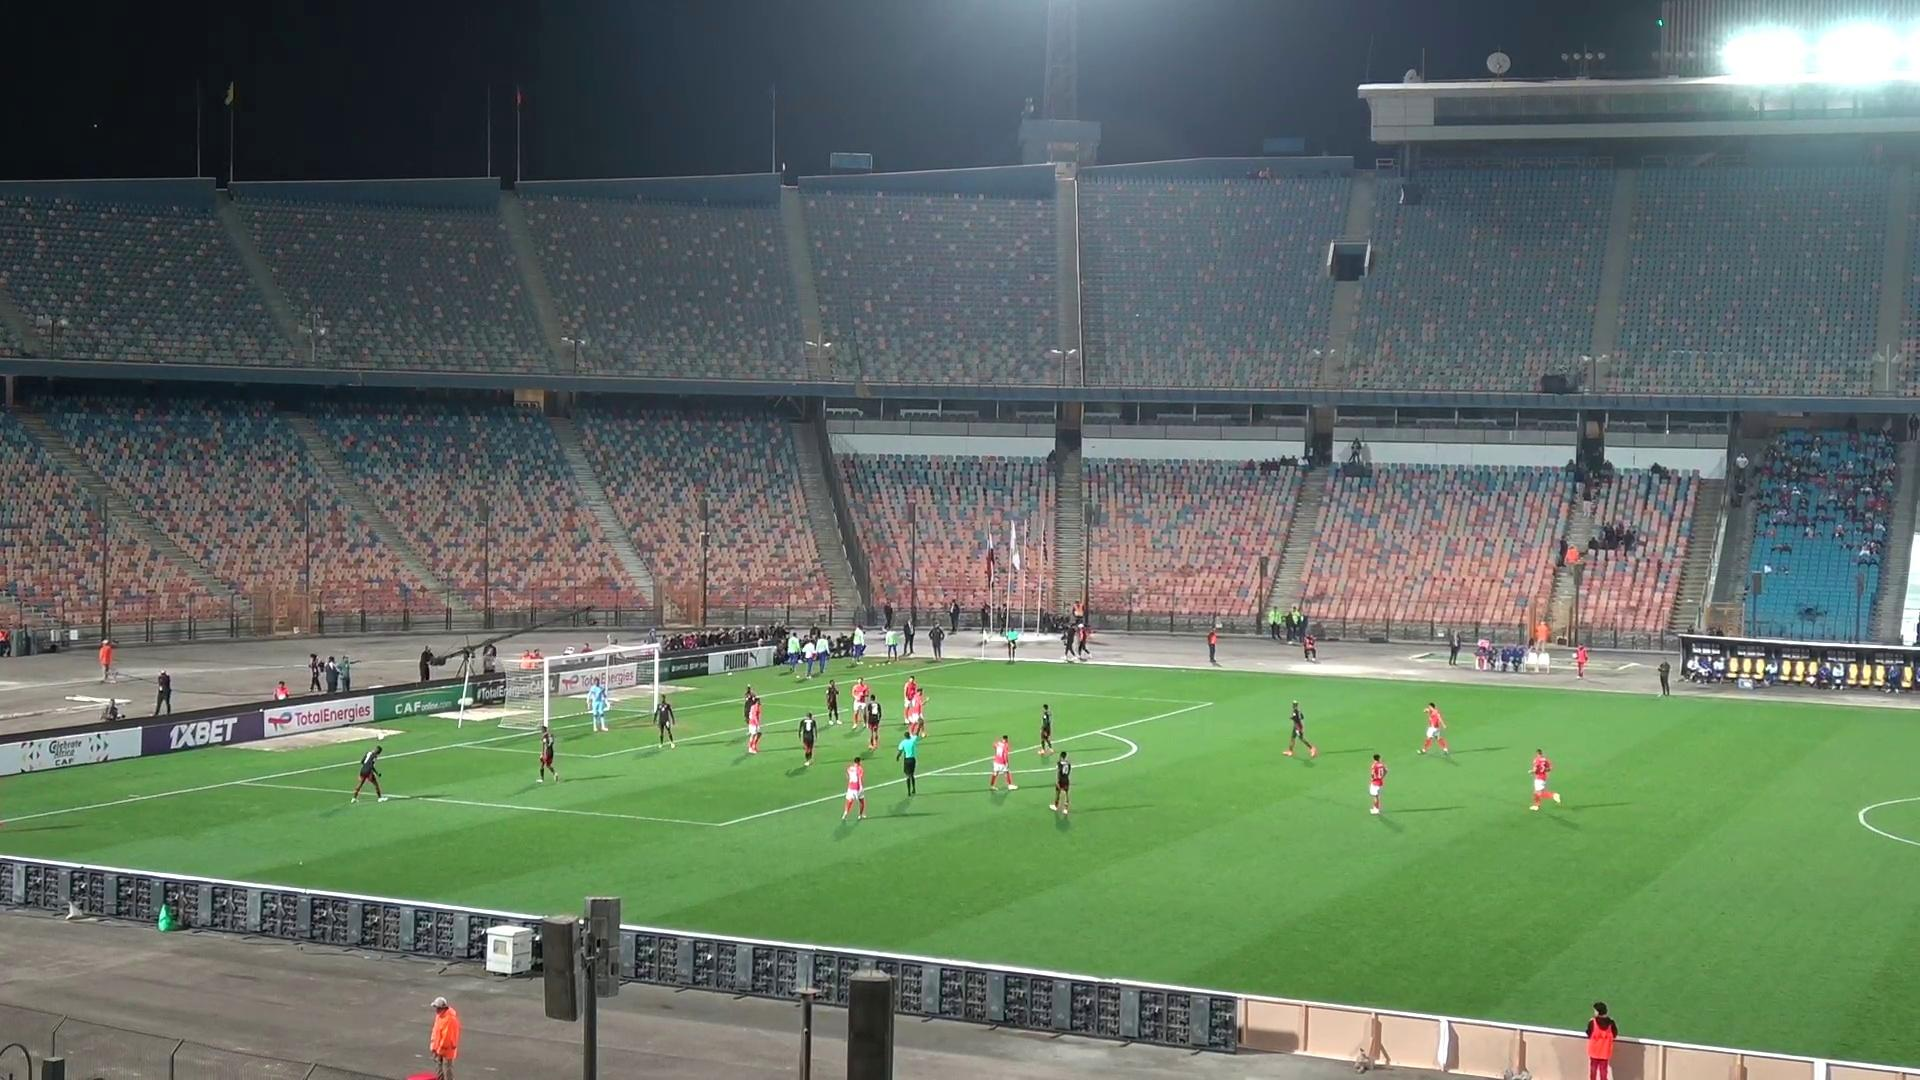GK2: (582, 673, 611, 732)
Refree: (895, 723, 923, 796), (1004, 626, 1021, 663)
Team1: (1528, 749, 1560, 810), (841, 757, 866, 822), (1419, 702, 1449, 754), (988, 735, 1015, 790), (844, 676, 874, 725), (744, 687, 764, 754), (1367, 753, 1389, 815), (902, 675, 924, 733)
Team2: (349, 746, 388, 800), (1283, 700, 1319, 757), (851, 692, 882, 746), (1048, 750, 1073, 815), (650, 694, 676, 746), (1033, 704, 1056, 757), (537, 725, 559, 781), (796, 712, 818, 767), (825, 680, 841, 725), (741, 684, 761, 720)
